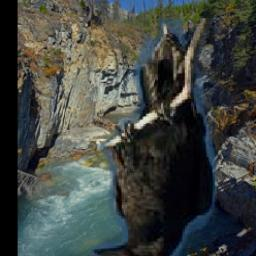Crow: (89, 19, 216, 256)
Cuckoo: (252, 177, 256, 230)
